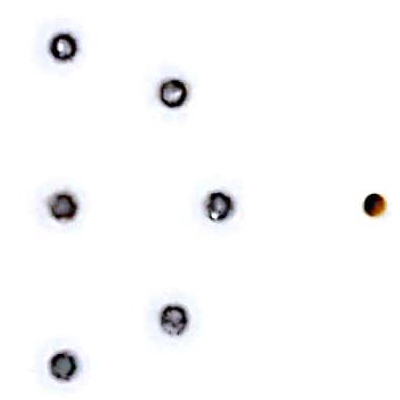cancer: (19, 167, 101, 245), (25, 328, 102, 399), (182, 165, 254, 237), (28, 17, 103, 84), (138, 283, 206, 353), (138, 61, 202, 128)
normal: (353, 180, 398, 228)
